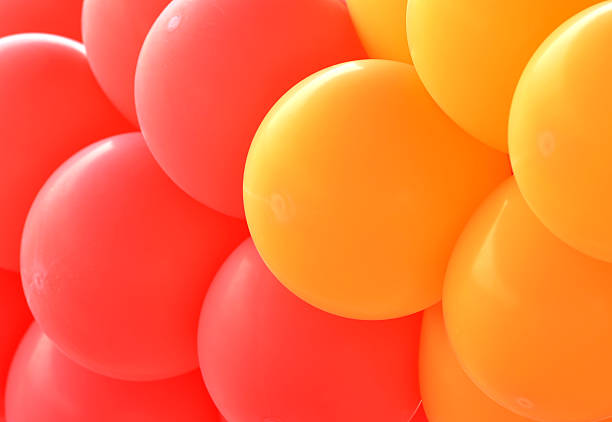Balloon: (246, 57, 470, 308), (28, 137, 207, 383), (441, 181, 612, 422), (205, 239, 420, 422), (516, 1, 612, 262)
